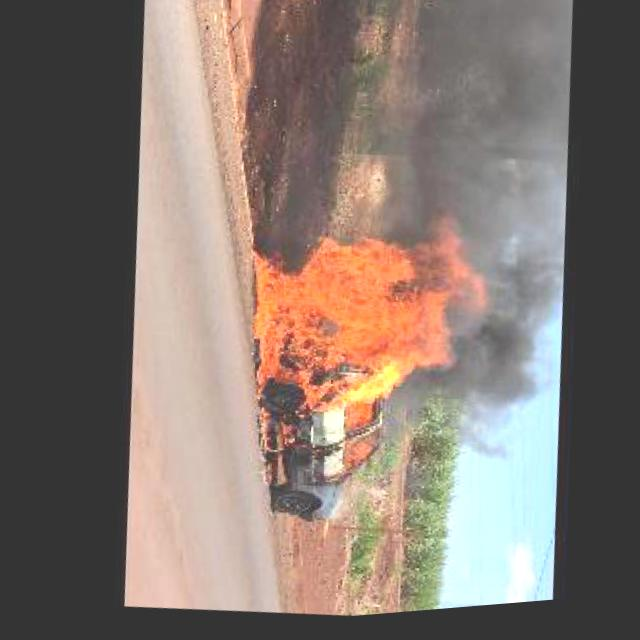Fire: (218, 200, 506, 517)
Smoke: (379, 0, 589, 244), (425, 231, 574, 462)
